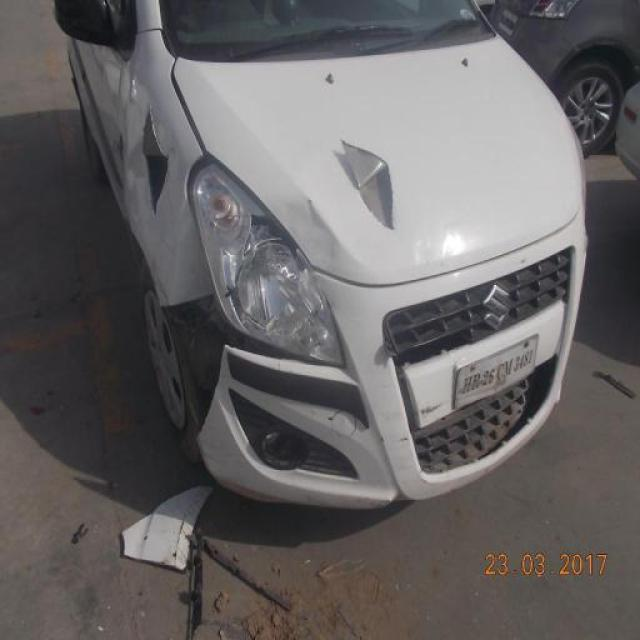missing: (164, 289, 248, 445)
shatter: (220, 210, 322, 356)
tear: (335, 134, 401, 239), (138, 111, 177, 230)
